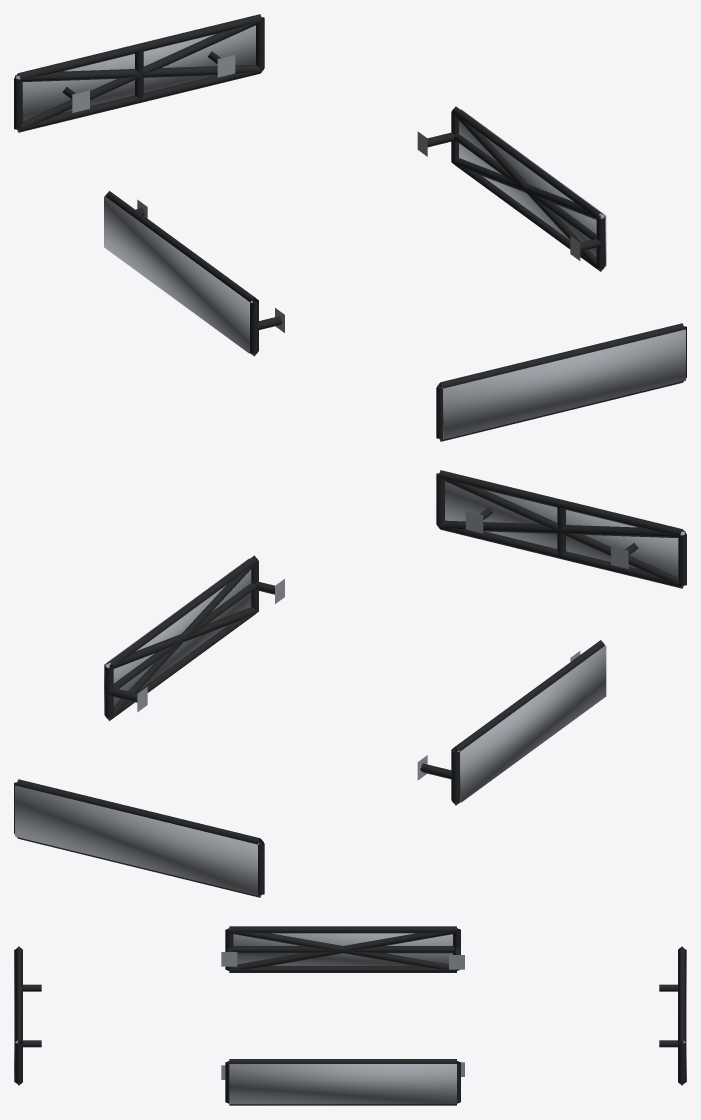
Rendered from taurenza_lasca_protecao.glb.
3 renders of one model, top to bottom at view 1: azimuth 30°, elevation 25°; view 2: azimuth 150°, elevation 25°; view 3: azimuth 270°, elevation 25°, orthographic. The views are drawn at different scales.
Parts seen in each view (by area): view 1: Protection_front_Level3_Details, Protection_left_Level3_Details, Protection_rear_Level1_Details, Protection_rear_Level3_Details, Protection_right_Level1_Details, Protection_rear_Level2_Details, Protection_right_Level2_Details, Protection_right_Level3_Details, Protection_front_Level1_Details, Protection_left_Level1_Details; view 2: Protection_rear_Level3_Details, Protection_left_Level3_Details, Protection_front_Level1_Details, Protection_front_Level3_Details, Protection_front_Level2_Details, Protection_right_Level1_Details, Protection_right_Level2_Details, Protection_right_Level3_Details, Protection_rear_Level1_Details, Protection_left_Level1_Details; view 3: Protection_right_Level3_Details, Protection_left_Level2_Details, Protection_left_Level1_Details, Protection_left_Level3_Details, Protection_right_Level1_Details, Protection_rear_Level1_Details, Protection_front_Level1_Details.
Part boxes in pixels (bbox=[...]): Protection_front_Level3_Details: bbox=[441, 329, 685, 439]; Protection_left_Level3_Details: bbox=[104, 196, 252, 353]; Protection_rear_Level1_Details: bbox=[14, 14, 264, 132]; Protection_rear_Level3_Details: bbox=[15, 25, 255, 121]; Protection_right_Level1_Details: bbox=[417, 106, 605, 271]; Protection_rear_Level2_Details: bbox=[16, 21, 262, 131]; Protection_right_Level2_Details: bbox=[451, 112, 604, 271]; Protection_right_Level3_Details: bbox=[459, 109, 606, 266]; Protection_front_Level1_Details: bbox=[436, 323, 686, 441]; Protection_left_Level1_Details: bbox=[105, 191, 284, 356]; Protection_rear_Level3_Details: bbox=[15, 785, 259, 895]; Protection_left_Level3_Details: bbox=[457, 645, 606, 802]; Protection_front_Level1_Details: bbox=[436, 470, 686, 588]; Protection_front_Level3_Details: bbox=[445, 481, 685, 577]; Protection_front_Level2_Details: bbox=[438, 477, 684, 587]; Protection_right_Level1_Details: bbox=[105, 555, 284, 720]; Protection_right_Level2_Details: bbox=[105, 562, 258, 720]; Protection_right_Level3_Details: bbox=[104, 558, 251, 715]; Protection_rear_Level1_Details: bbox=[14, 779, 264, 897]; Protection_left_Level1_Details: bbox=[417, 640, 604, 805]; Protection_right_Level3_Details: bbox=[229, 1064, 456, 1104]; Protection_left_Level2_Details: bbox=[229, 929, 457, 970]; Protection_left_Level1_Details: bbox=[221, 926, 464, 972]; Protection_left_Level3_Details: bbox=[233, 933, 452, 965]; Protection_right_Level1_Details: bbox=[221, 1059, 464, 1105]; Protection_rear_Level1_Details: bbox=[659, 946, 685, 1085]; Protection_front_Level1_Details: bbox=[15, 946, 41, 1085].
Size of the model in its own units: 2.22 by 0.354 by 4.61.
1 material, 1 textured.
